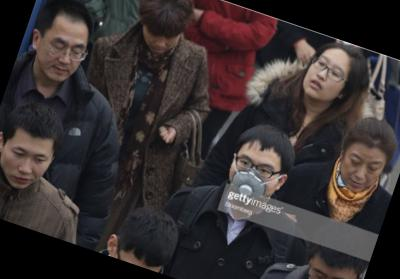with_mask: (220, 149, 286, 212)
without_mask: (29, 28, 89, 91), (297, 49, 355, 109), (334, 146, 389, 199), (138, 23, 182, 60), (301, 261, 358, 279)
